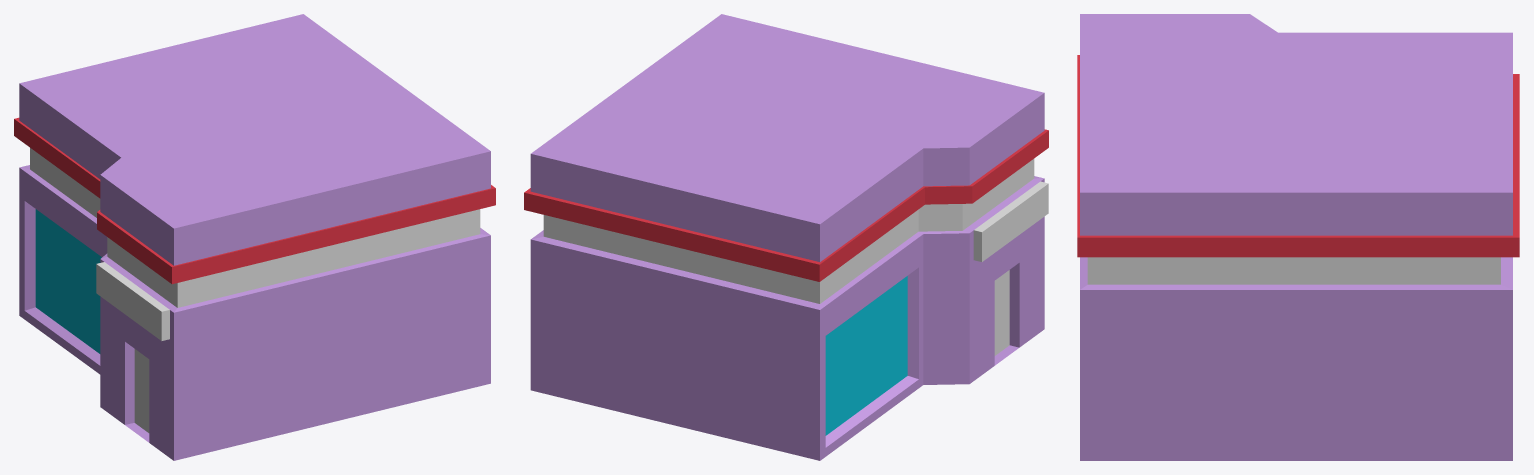
File: FBX_SD_mhshop1.fbx
3 views of the same model, side by side, from view 1: azimuth 30°, elevation 25°; view 2: azimuth 150°, elevation 25°; view 3: azimuth 270°, elevation 25° (orthographic). The views are drawn at different scales.
Parts seen in each view (by area): view 1: FBX_SD_mhshop1; view 2: FBX_SD_mhshop1; view 3: FBX_SD_mhshop1.
Boxes of the visible parts, bbox=[...] form: FBX_SD_mhshop1: bbox=[14, 14, 495, 460]; FBX_SD_mhshop1: bbox=[524, 14, 1048, 460]; FBX_SD_mhshop1: bbox=[1077, 14, 1519, 460].
Size of the model in its own units: 1343 by 906 by 1354.
